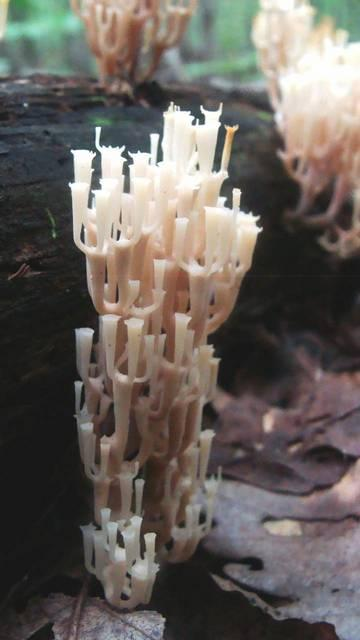Edible Mushroom: (67, 99, 263, 610), (250, 0, 359, 258), (68, 0, 198, 104)
